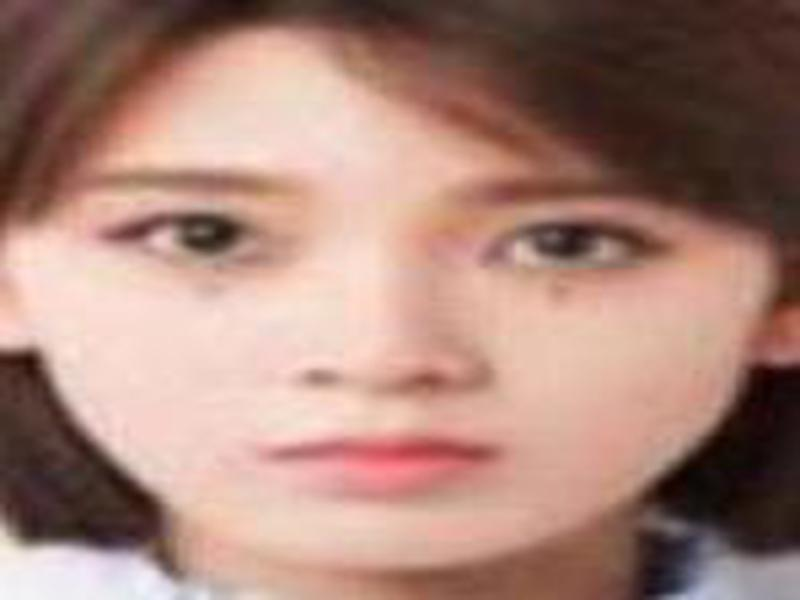without_mask: (23, 85, 778, 580)
